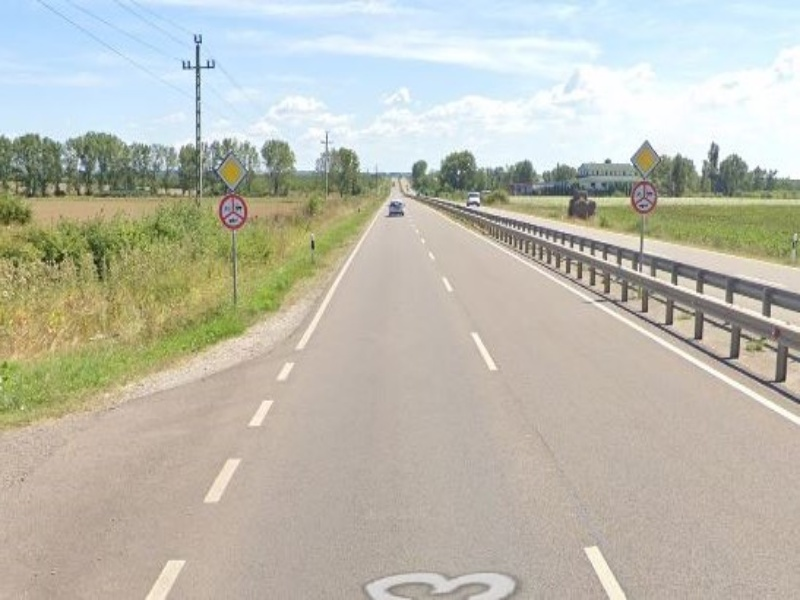fout: (211, 150, 251, 194), (628, 137, 662, 182)
